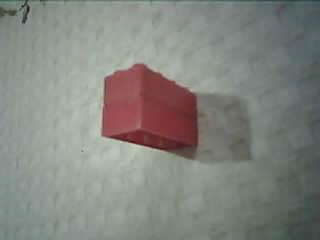lego: (100, 61, 199, 149)
